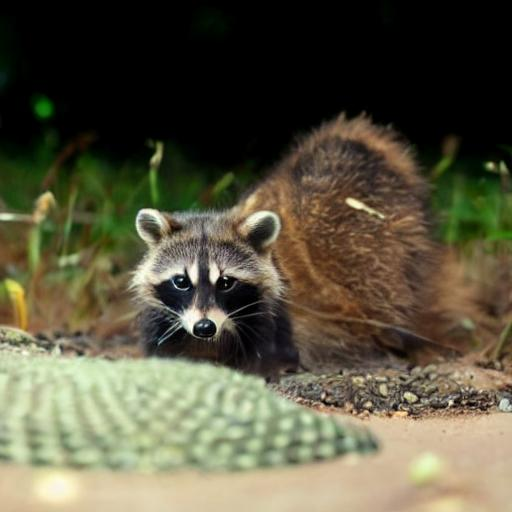raccoon: (121, 198, 325, 372)
